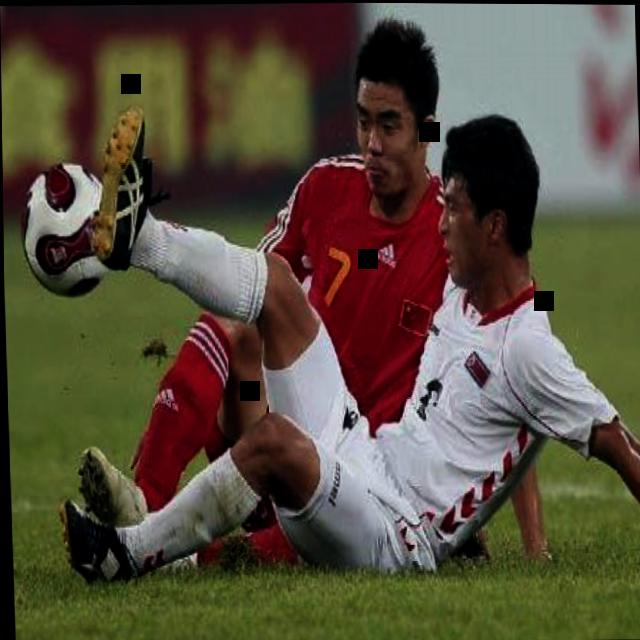Fall-Detected: (0, 0, 633, 640)
